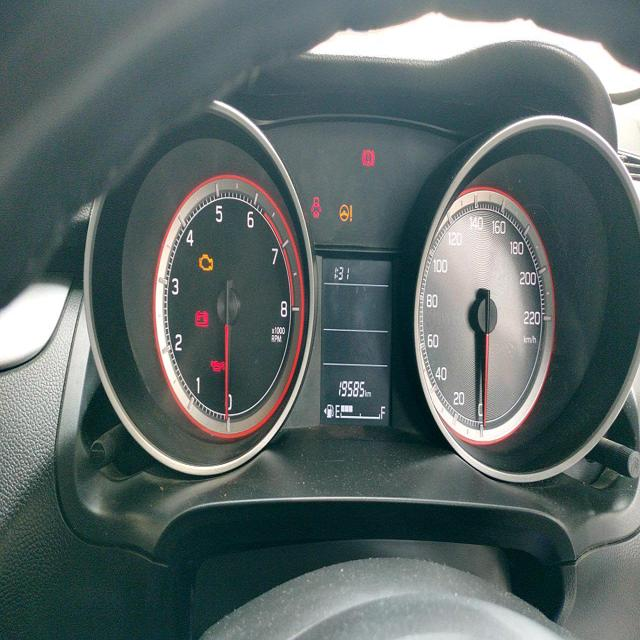odometer: (333, 380, 366, 400)
